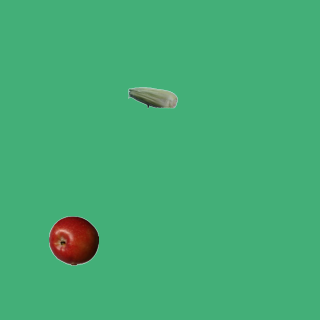Apple Braeburn: (48, 215, 98, 265)
Corn Husk: (127, 72, 177, 122)
